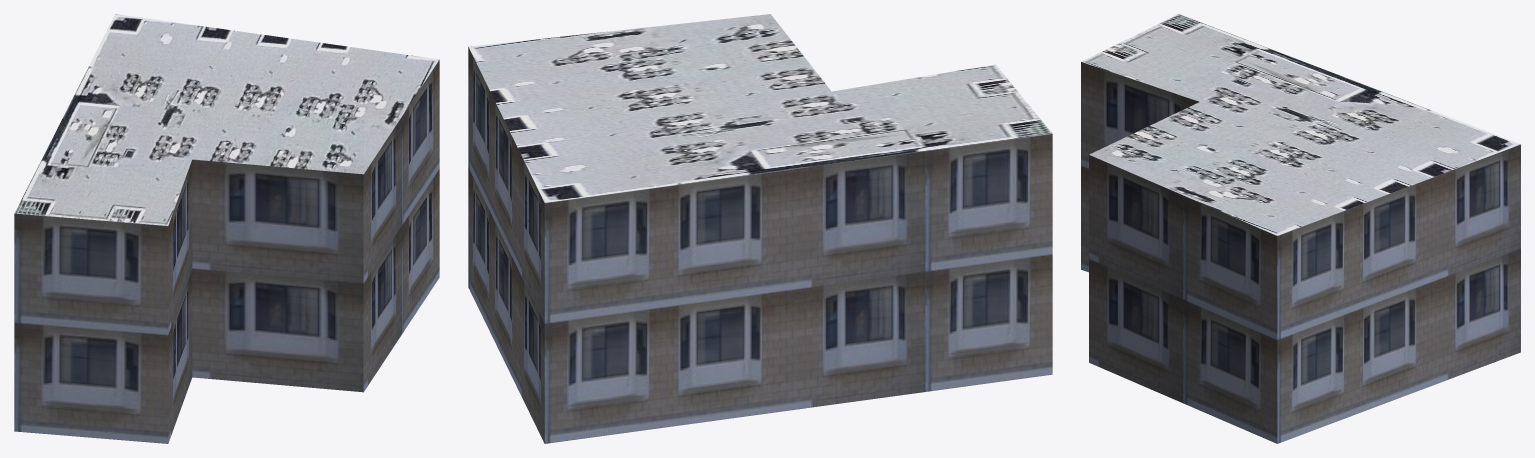
File: ResTex__3506.fbx
3 views of the same model, side by side, from view 1: azimuth 30°, elevation 25°; view 2: azimuth 150°, elevation 25°; view 3: azimuth 270°, elevation 25° (orthographic). The views are drawn at different scales.
Visible parts, largest first — view 1: CityEngineMaterial_3_m, CityEngineMaterial_8_m; view 2: CityEngineMaterial_3_m, CityEngineMaterial_8_m; view 3: CityEngineMaterial_3_m, CityEngineMaterial_8_m.
Part boxes in pixels (x1=…): CityEngineMaterial_3_m: x1=14, y1=60, x2=439, y2=443; CityEngineMaterial_8_m: x1=14, y1=14, x2=439, y2=225; CityEngineMaterial_3_m: x1=468, y1=47, x2=1052, y2=443; CityEngineMaterial_8_m: x1=469, y1=14, x2=1051, y2=202; CityEngineMaterial_3_m: x1=1081, y1=62, x2=1520, y2=443; CityEngineMaterial_8_m: x1=1081, y1=14, x2=1520, y2=235.
Bounding box in the file's own units: 13.74 × 6 × 11.5.
2 materials, 2 textured.
